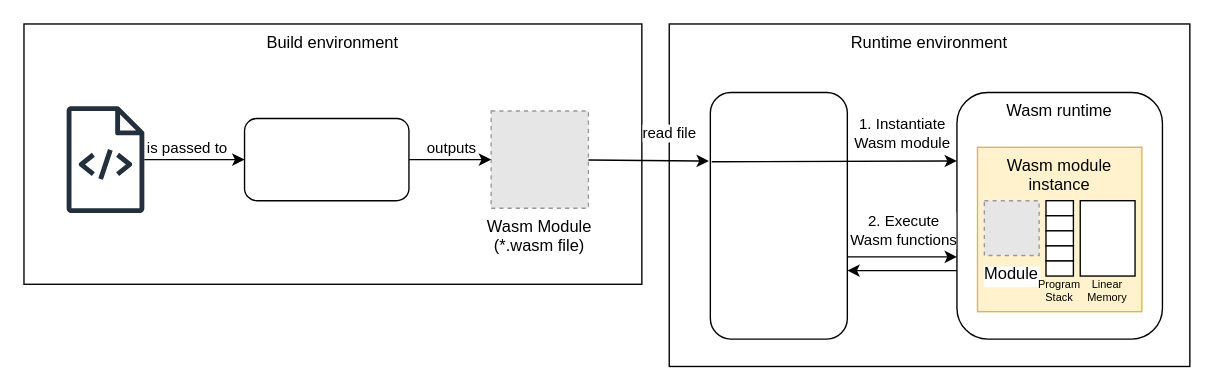
Image size: 1214x390. Some labels were removed from this diagram. Grey dashed boxes stand in for pictures. Each missing label, with the centre of its shape:
Compiler (Wasm-compatible): the point at 326,159
Host application: the point at 778,215
Source code (C, C++, Rust): the point at 105,158
